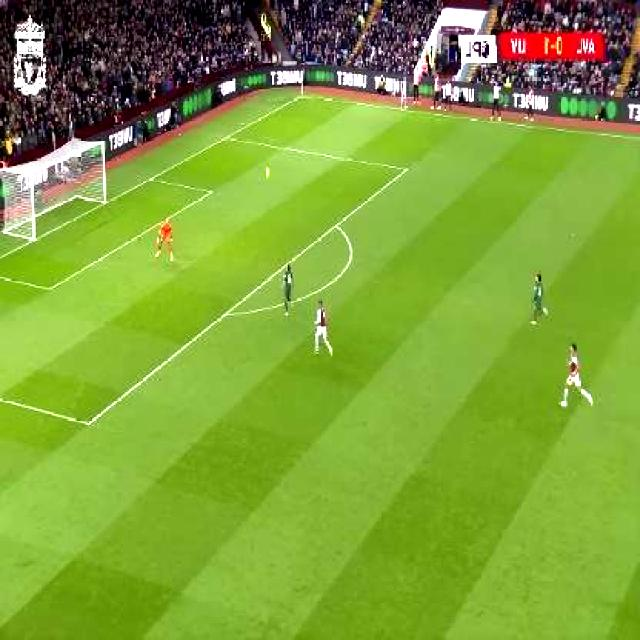bigarea_bottom_inner: (83, 414, 95, 431)
bigarea_top_inner: (402, 163, 411, 175)
bigarea_top_outter: (224, 132, 230, 142)
bottom_arc_area_intersection: (223, 308, 231, 320)
corner: (300, 92, 308, 99)
smallarea_bottom_inner: (43, 280, 55, 297)
smallarea_top_inner: (207, 187, 216, 196)
smallarea_top_outter: (148, 174, 155, 183)
top_arc_area_intersection: (334, 220, 340, 231)
